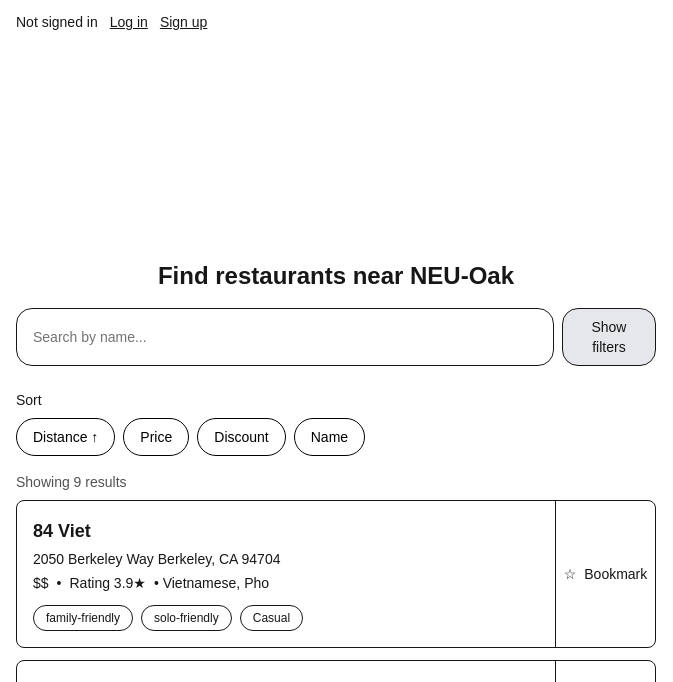
Test: Home RestaurantsPage › toggles filters and selects facets
The image size is (673, 682).
Click the button "Show filters".
click(609, 337)  # box [562,308,656,366]
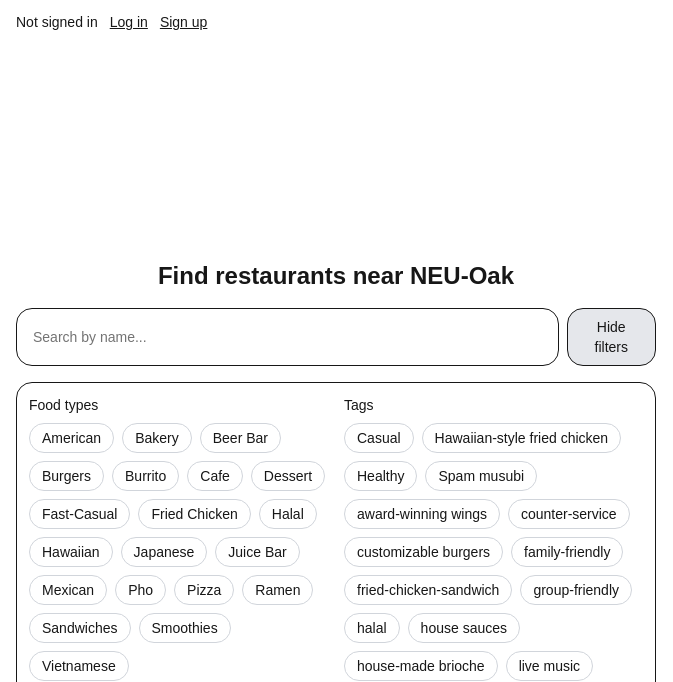
Expected: the button named "show filters" is expanded, [566,308,656,366]
Click the button "American".
click(72, 438)  # box [29,423,114,453]
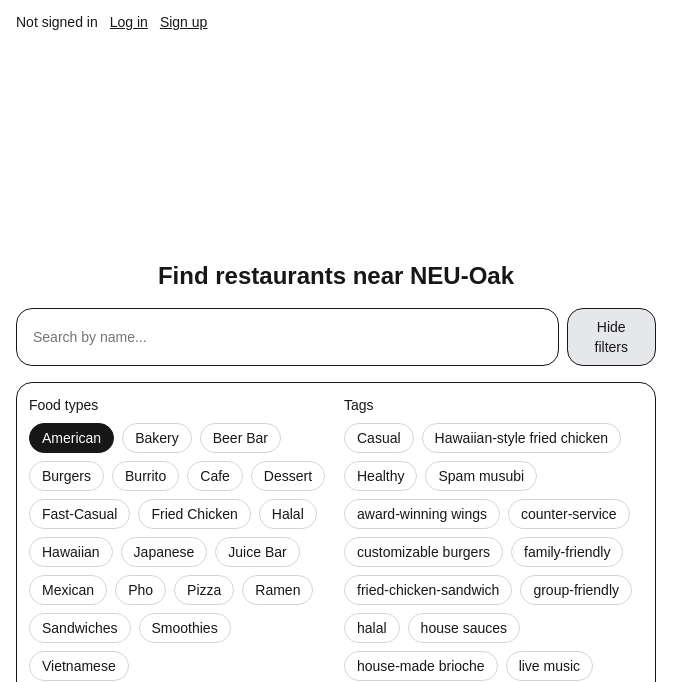
Click the button "Bakery".
click(157, 438)  # box [122,423,192,453]
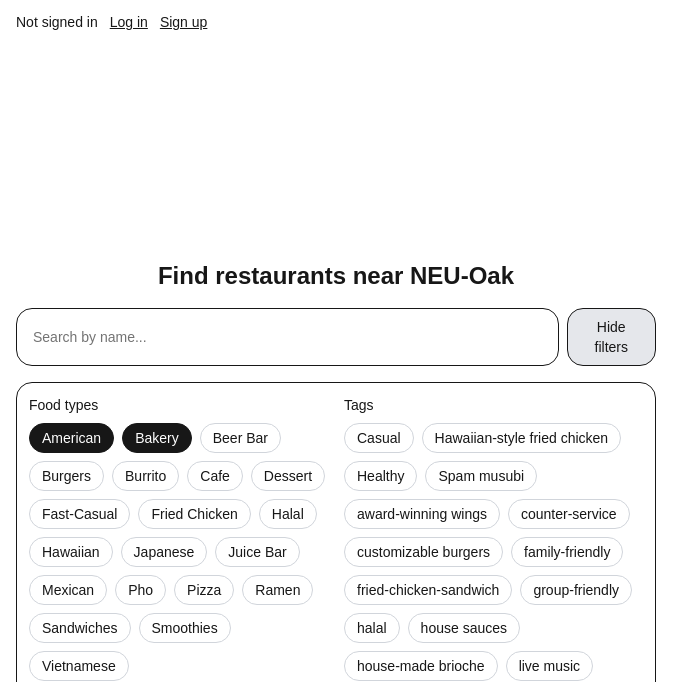
Click the button named "show filters".
click(611, 337)  # box [566,308,656,366]
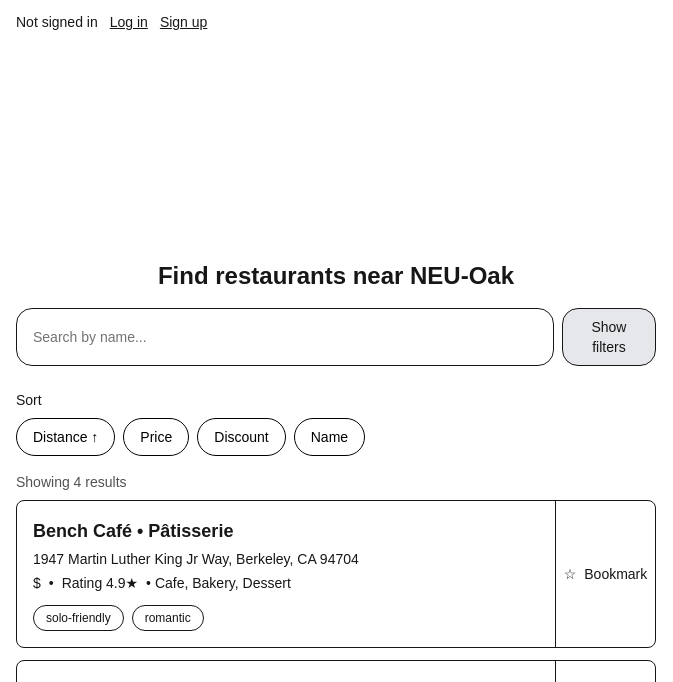
Expected: the button "Show filters" is collapsed, [562,308,656,366]
